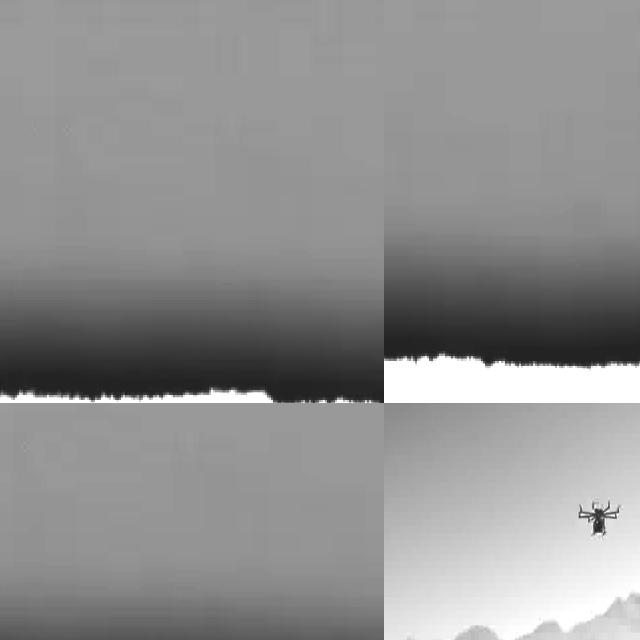drone: (578, 492, 622, 543)
